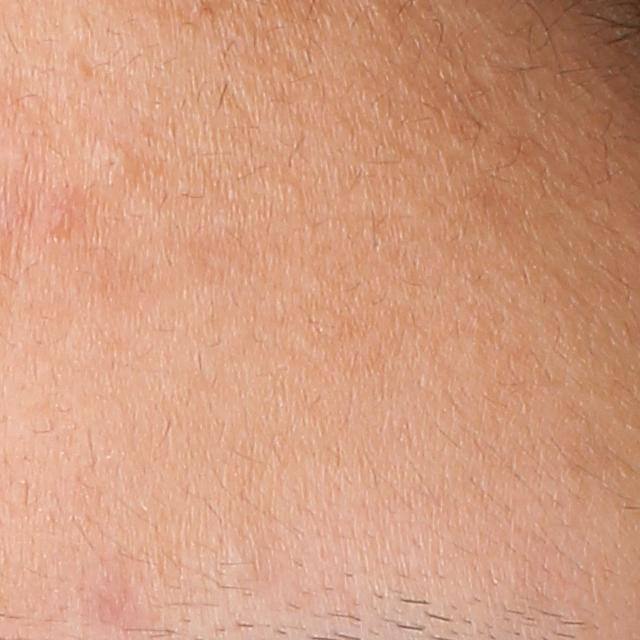comedo: (93, 139, 132, 191)
